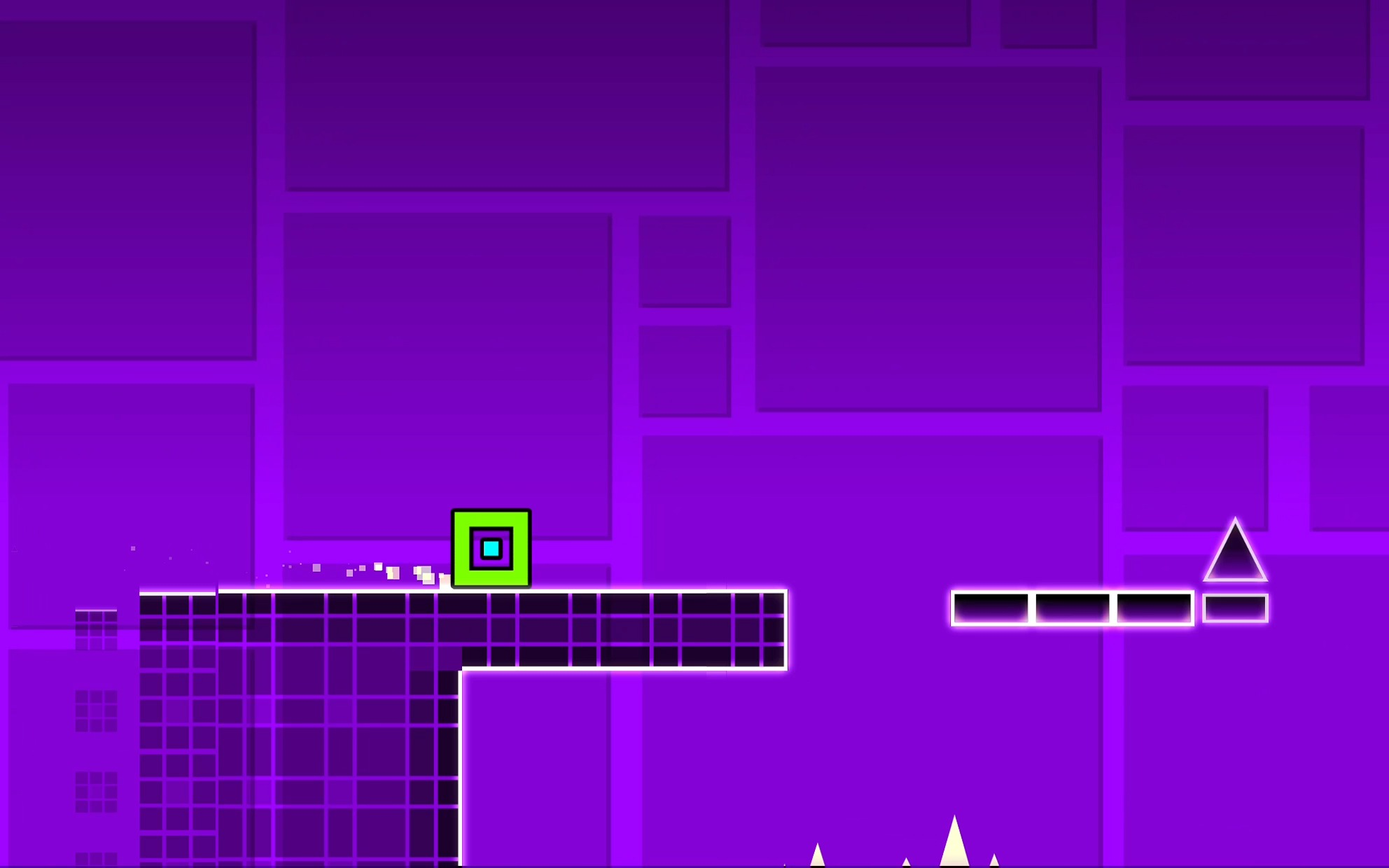Block2: (132, 591, 461, 868), (458, 590, 791, 666)
Block3: (944, 590, 1111, 624), (1112, 585, 1196, 630), (1201, 594, 1269, 622)
Player: (449, 508, 531, 587)
Spike: (1203, 518, 1266, 582)
